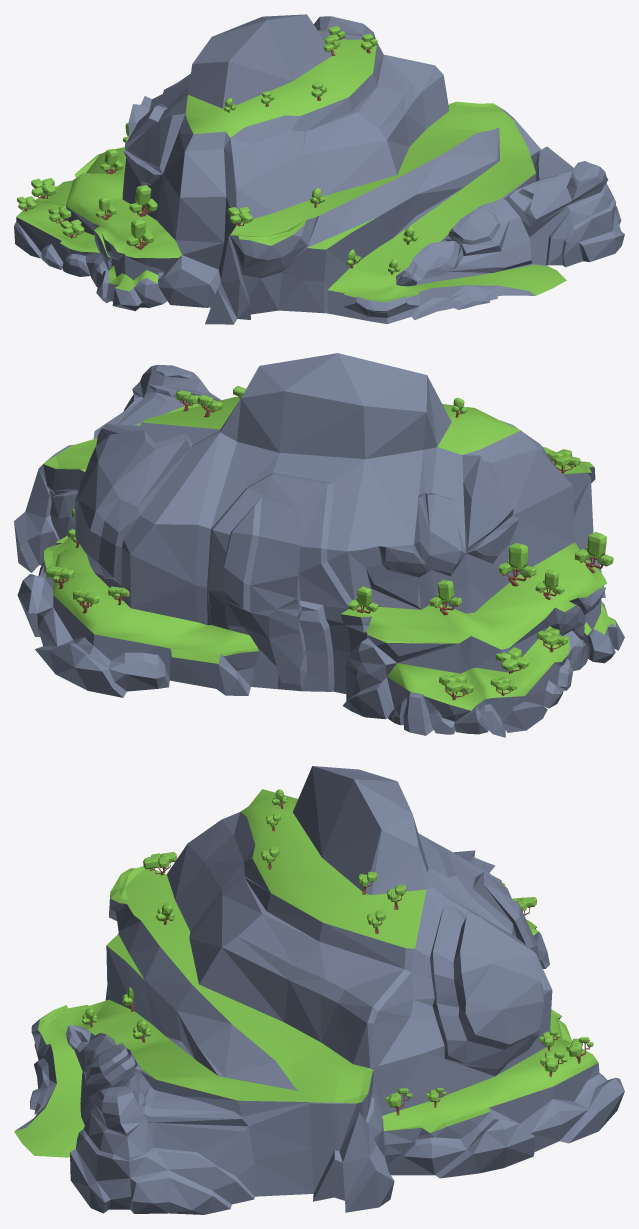
The model's file is geostructures_no5.fbx.
3 renders of one model, top to bottom at view 1: azimuth 30°, elevation 25°; view 2: azimuth 150°, elevation 25°; view 3: azimuth 270°, elevation 25°, orthographic. The views are drawn at different scales.
Visible parts, largest first — view 1: landform_05shrubbed:geology, landform_05shrubbed:shrubs; view 2: landform_05shrubbed:geology, landform_05shrubbed:shrubs; view 3: landform_05shrubbed:geology, landform_05shrubbed:shrubs.
Boxes of the visible parts, bbox=[...] form: landform_05shrubbed:geology: bbox=[14, 14, 624, 324]; landform_05shrubbed:shrubs: bbox=[17, 26, 418, 274]; landform_05shrubbed:geology: bbox=[14, 353, 624, 737]; landform_05shrubbed:shrubs: bbox=[46, 386, 613, 700]; landform_05shrubbed:geology: bbox=[14, 766, 624, 1214]; landform_05shrubbed:shrubs: bbox=[82, 789, 593, 1115].
Bounding box in the file's own units: 49638 × 22183 × 44062.
